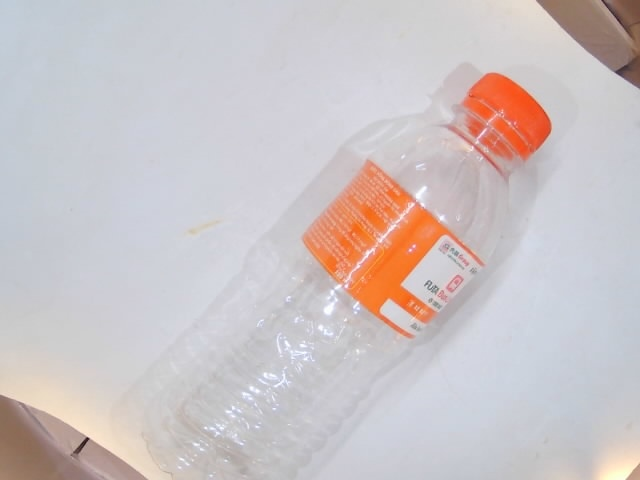plastic: (124, 63, 565, 480)
